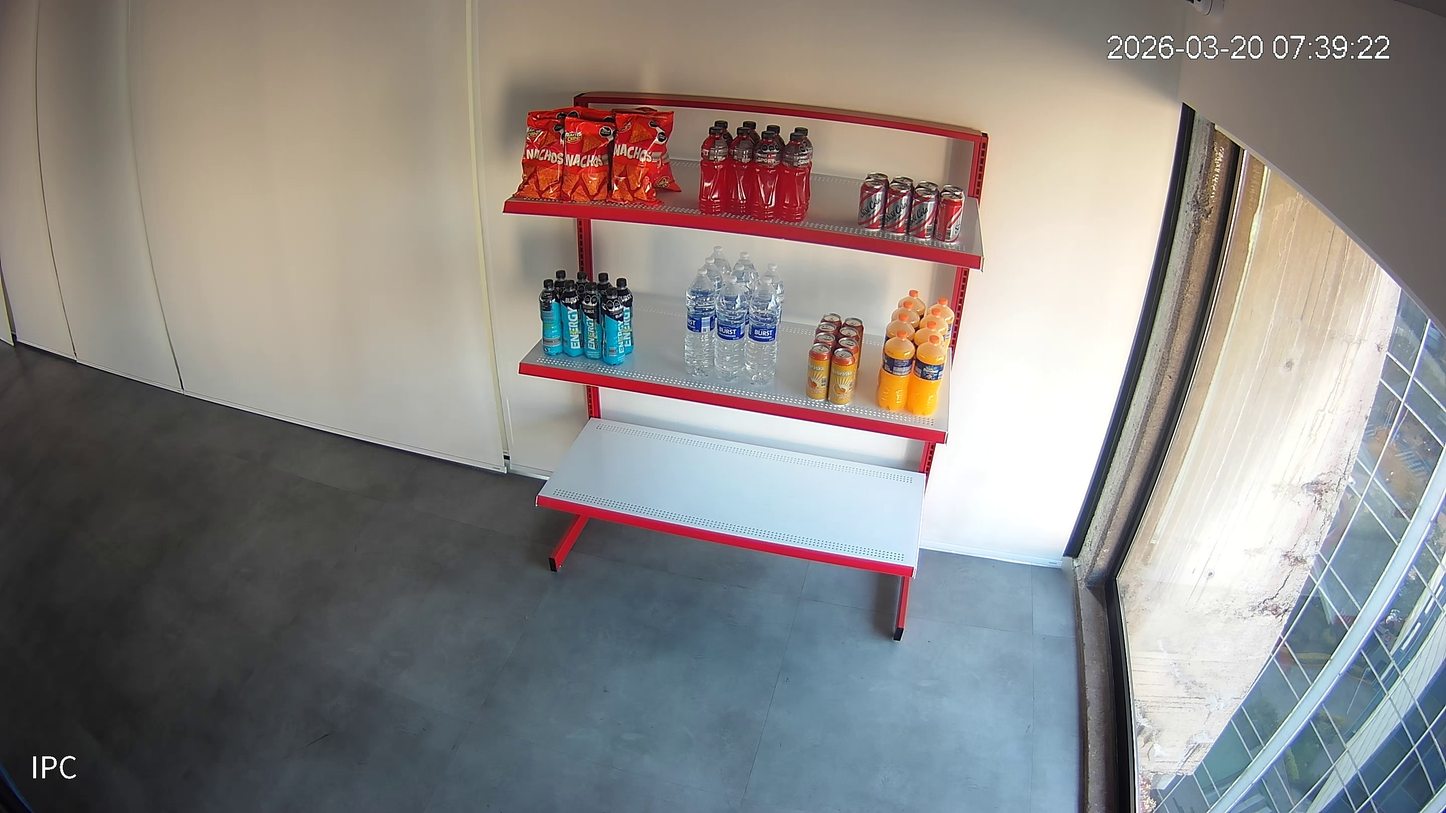agua_burst: (744, 277, 779, 384), (684, 268, 717, 377), (709, 246, 731, 287)
burst_energetica_roja: (775, 132, 809, 222), (725, 127, 756, 216), (713, 120, 733, 147)
burst_energy: (539, 278, 563, 356), (580, 282, 603, 359), (615, 277, 635, 355)
nachos_naturasol: (512, 114, 565, 199), (654, 146, 683, 192), (579, 106, 616, 123)
nebraska_mango: (827, 348, 855, 405), (806, 344, 833, 399), (815, 322, 839, 339)
sisi_cola: (908, 189, 938, 240), (857, 179, 887, 230), (892, 176, 915, 196)
sun_paradise_naranja: (877, 331, 915, 410), (882, 313, 916, 359), (898, 290, 925, 320)
